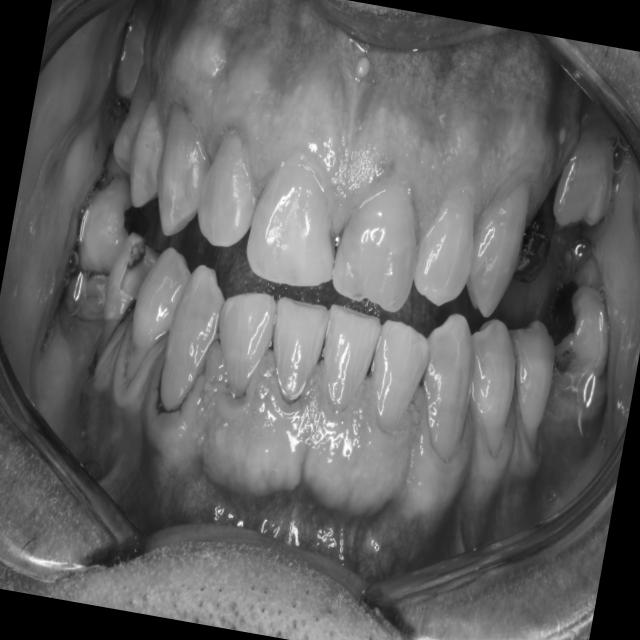tooth: (318, 165, 442, 332), (237, 142, 359, 307), (400, 299, 496, 475), (143, 251, 239, 426), (180, 114, 283, 271), (402, 160, 496, 326), (444, 305, 538, 471), (452, 162, 542, 333), (482, 307, 572, 468), (108, 232, 198, 385), (138, 92, 223, 252), (249, 280, 344, 422), (531, 267, 628, 398), (355, 306, 445, 446), (66, 164, 166, 289), (304, 287, 391, 428), (84, 224, 159, 380), (205, 281, 289, 412), (544, 120, 627, 240), (112, 87, 182, 226), (509, 155, 571, 288), (106, 50, 163, 188), (107, 0, 160, 107)
